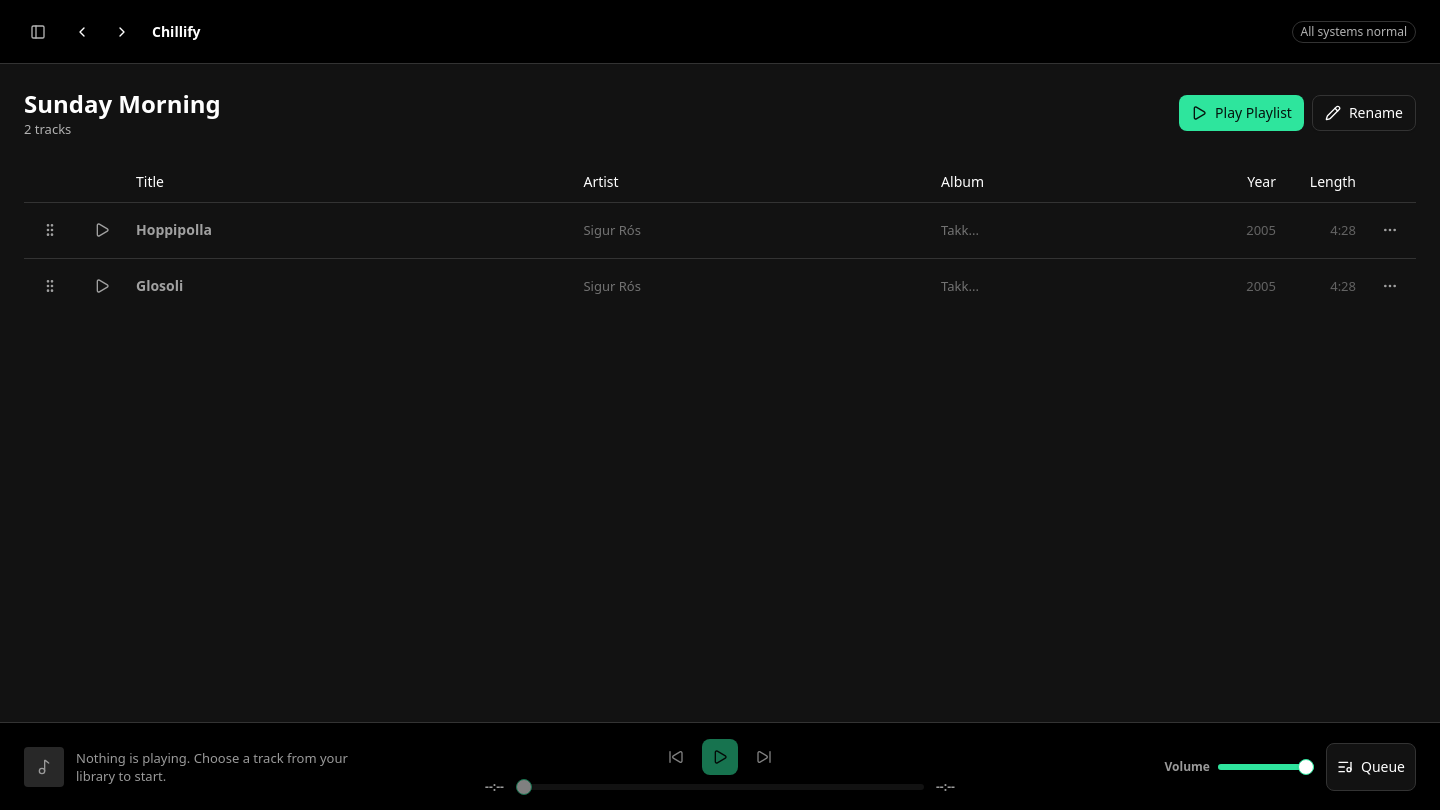
S10 playlist detail › keeps the track and warns when a removal conflicts with a concurrent change
Step 1. Click the button named "Actions for Glosoli" → [1390, 286], box x1=1372 y1=268 x2=1408 y2=304
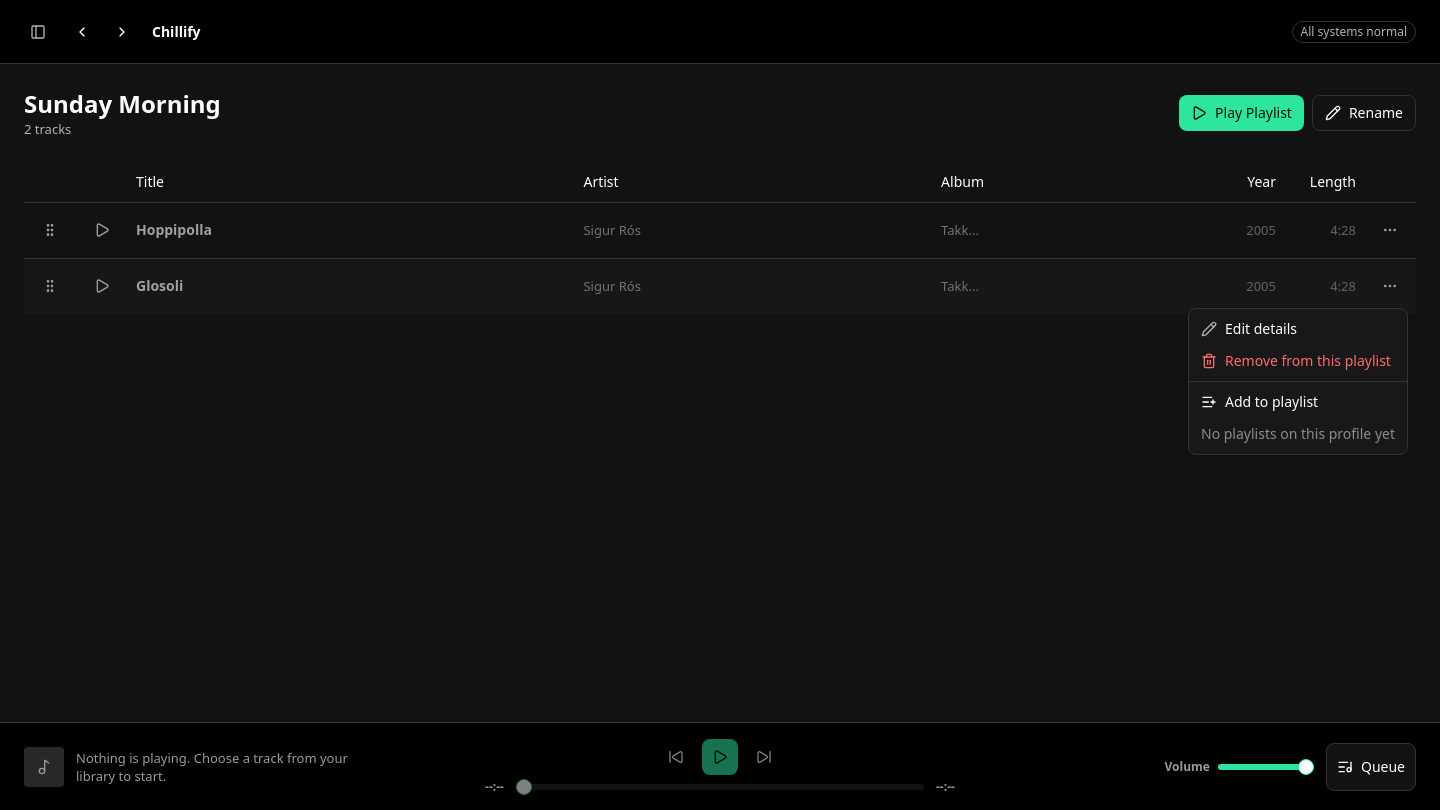
Step 2. Click the menu item "Remove from this playlist" → [1296, 360], box x1=1201 y1=351 x2=1391 y2=370
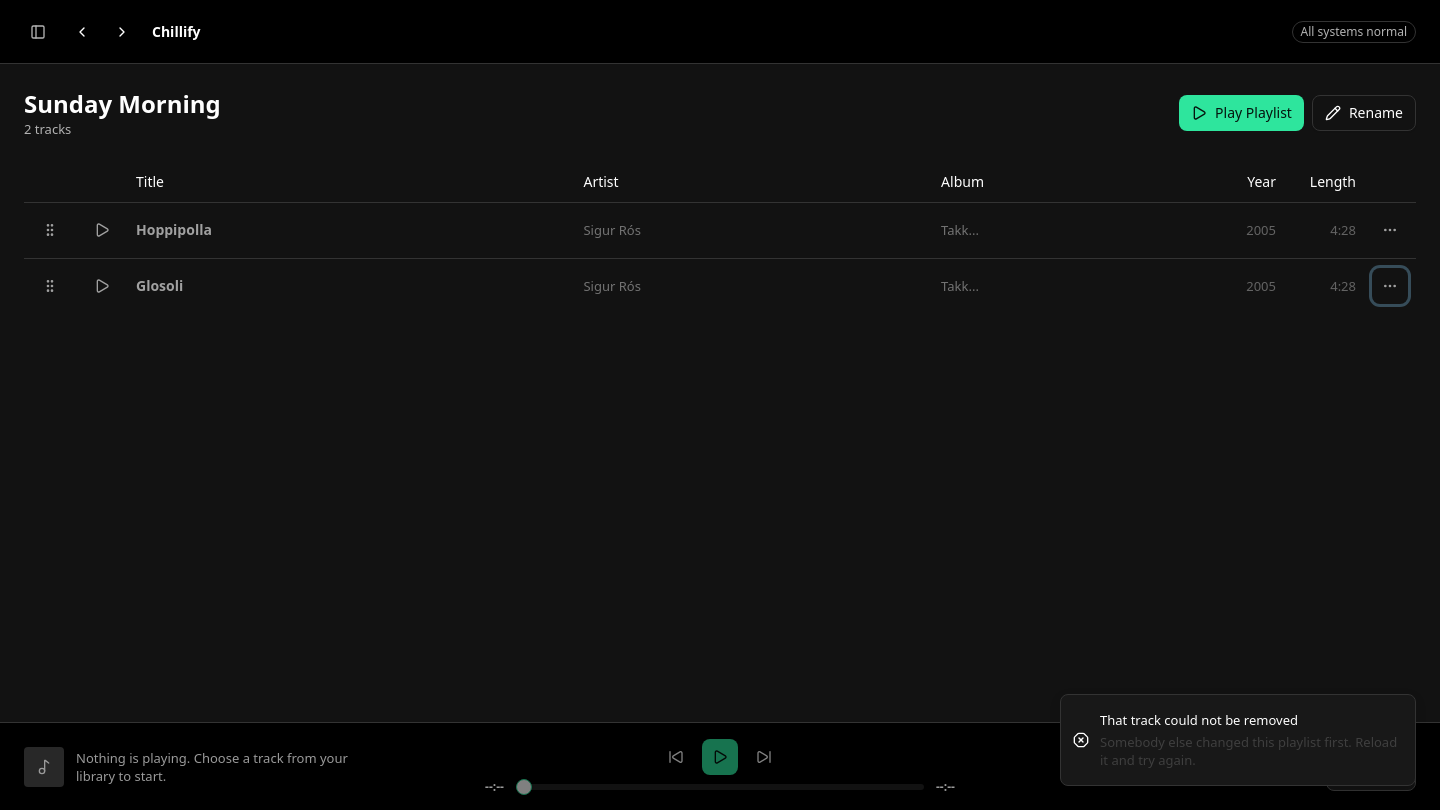
Expected: the text "Glosoli" is shown, x1=136 y1=276 x2=183 y2=295
Now the text "That track could not be removed" is shown, box x1=1100 y1=711 x2=1298 y2=729
